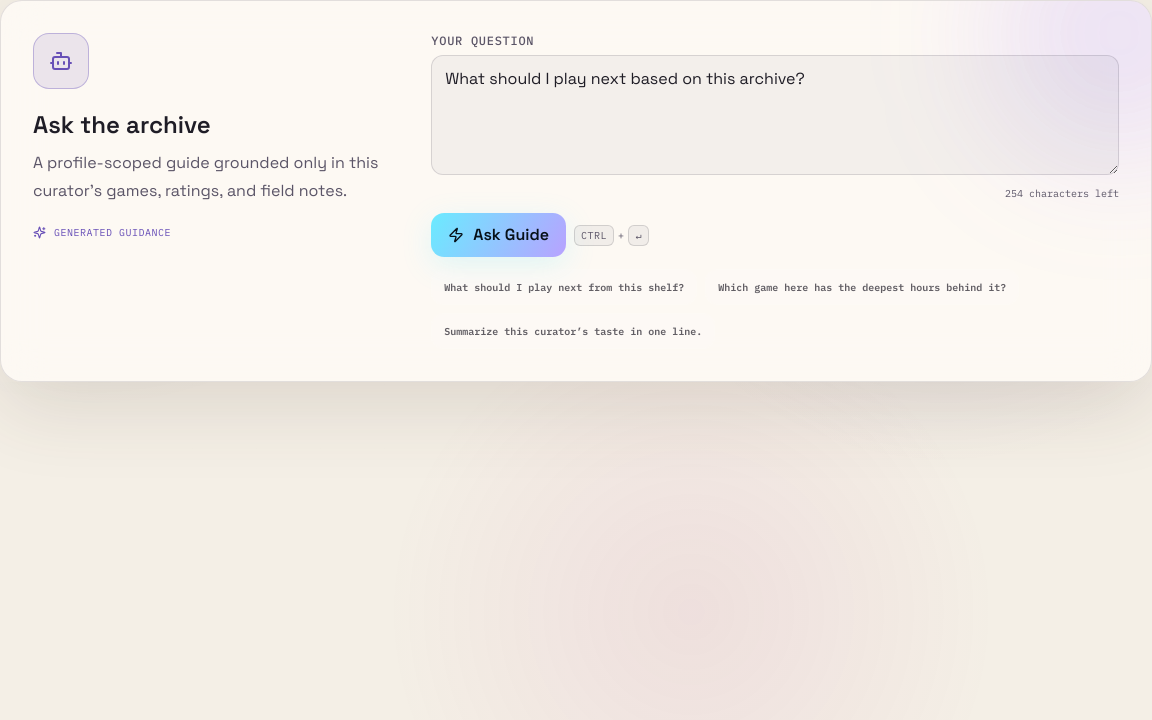
it: Guide › fills the question box when a suggestion chip is clicked
The width and height of the screenshot is (1152, 720).
Click the button "Which game here has the deepest hours behind it?" at (862, 287), box [705,269,1019,305]
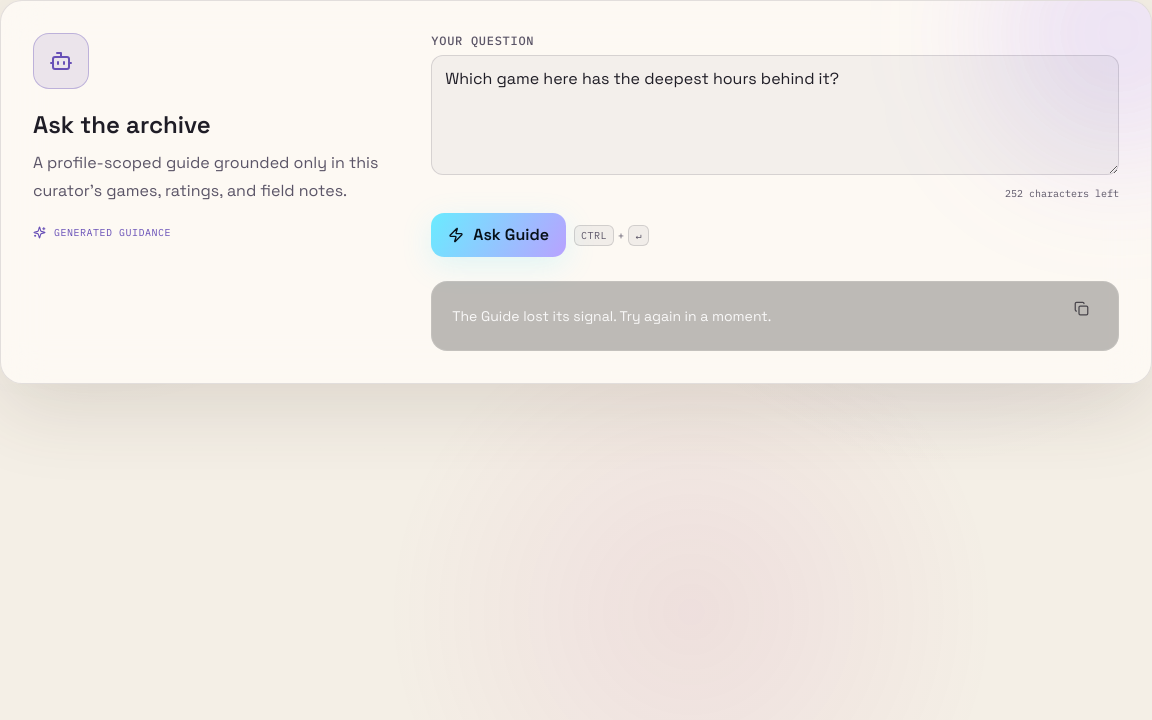
Result: the text box labelled "YOUR QUESTION" holds "Which game here has the deepest hours behind it?" at [431,55,1119,175]
